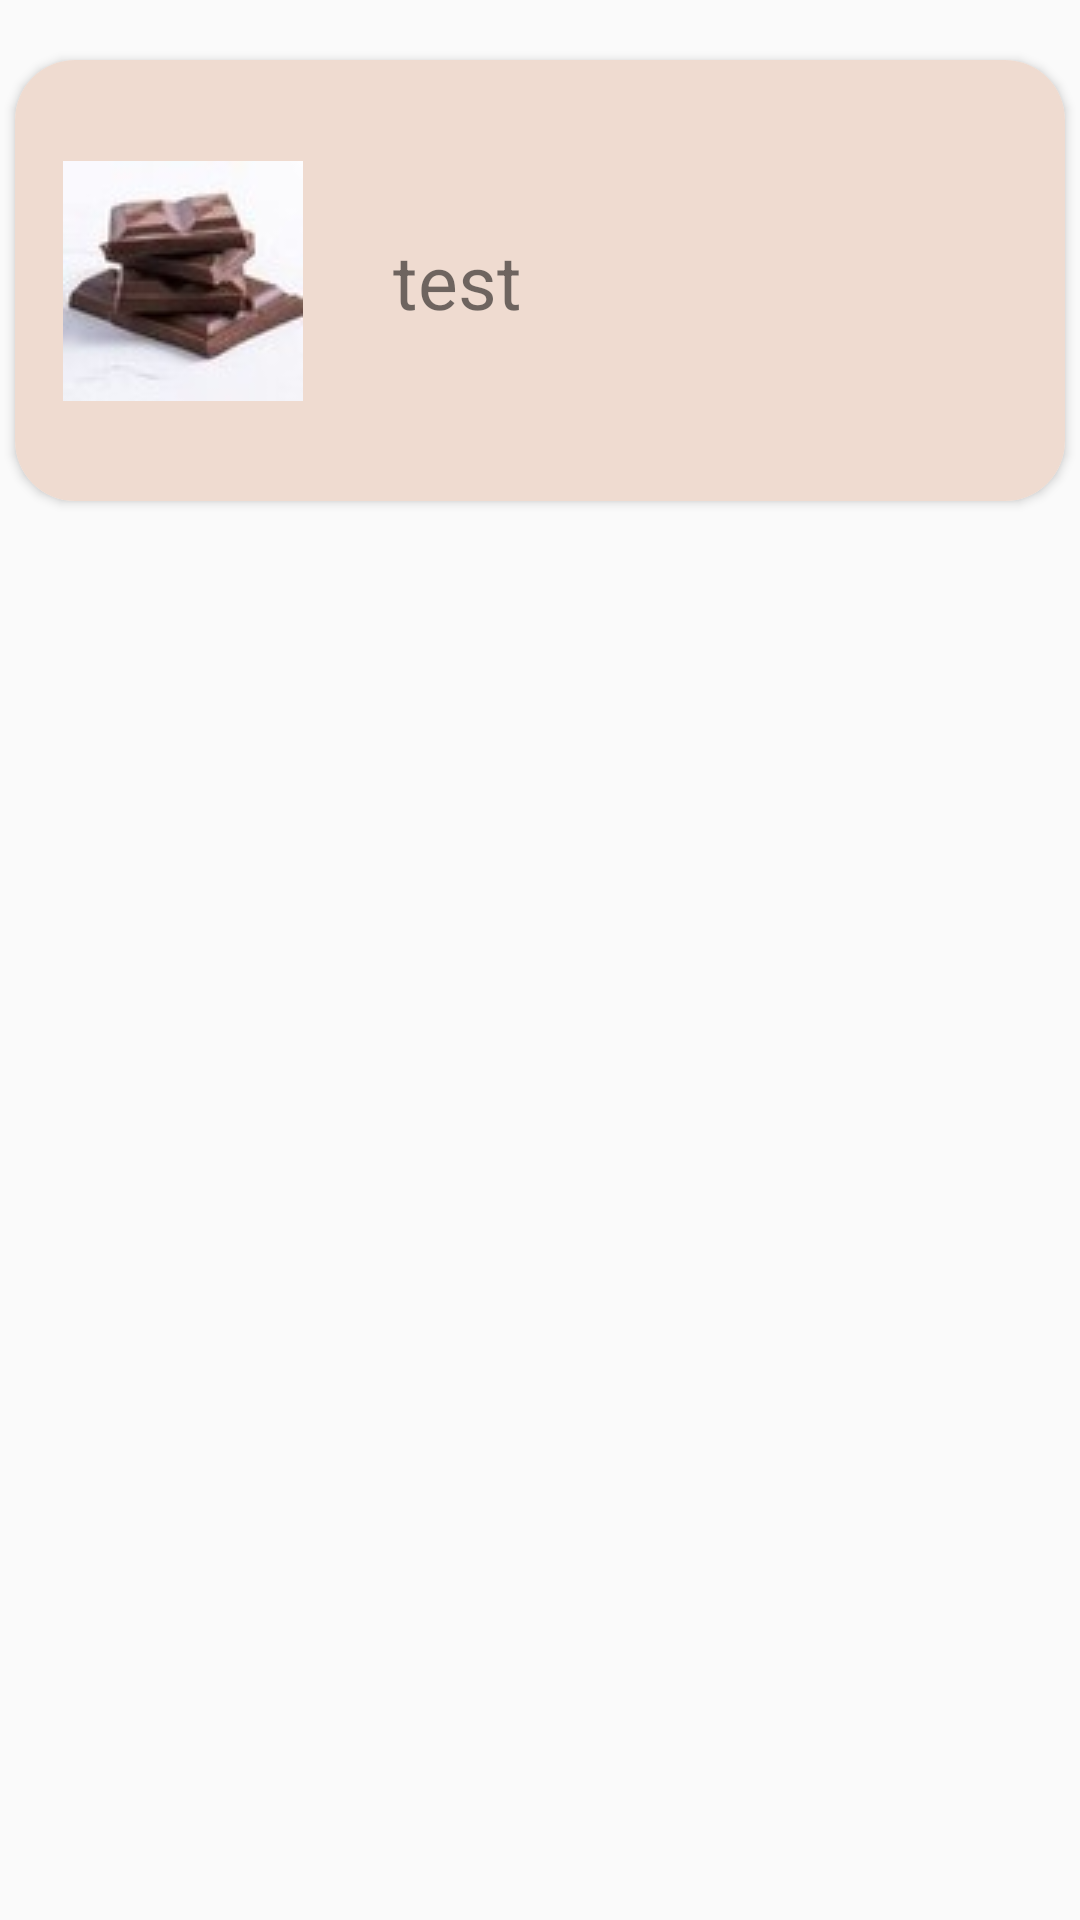

Named icons in this screenshot (1080px x 1920px) and their bounding boxes, [left=x1, top=y1, right=x2, bottom=y2]:
chocolate: [left=63, top=161, right=303, bottom=401]
